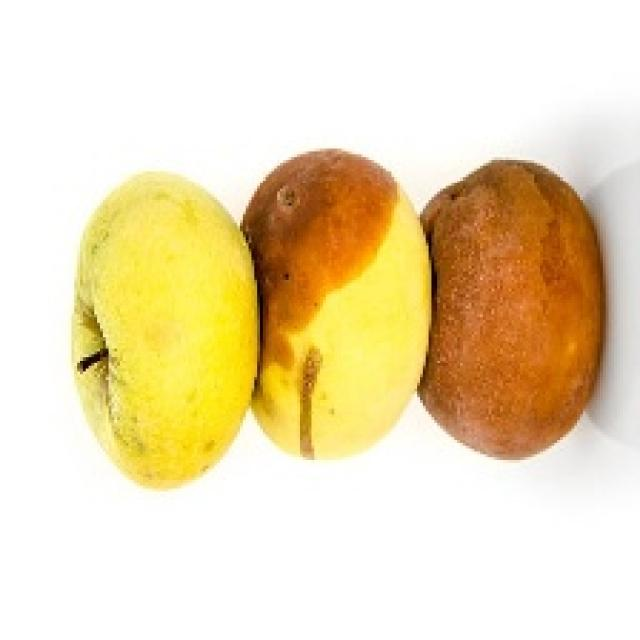rotten_apple: (256, 152, 430, 450), (430, 164, 601, 455)
